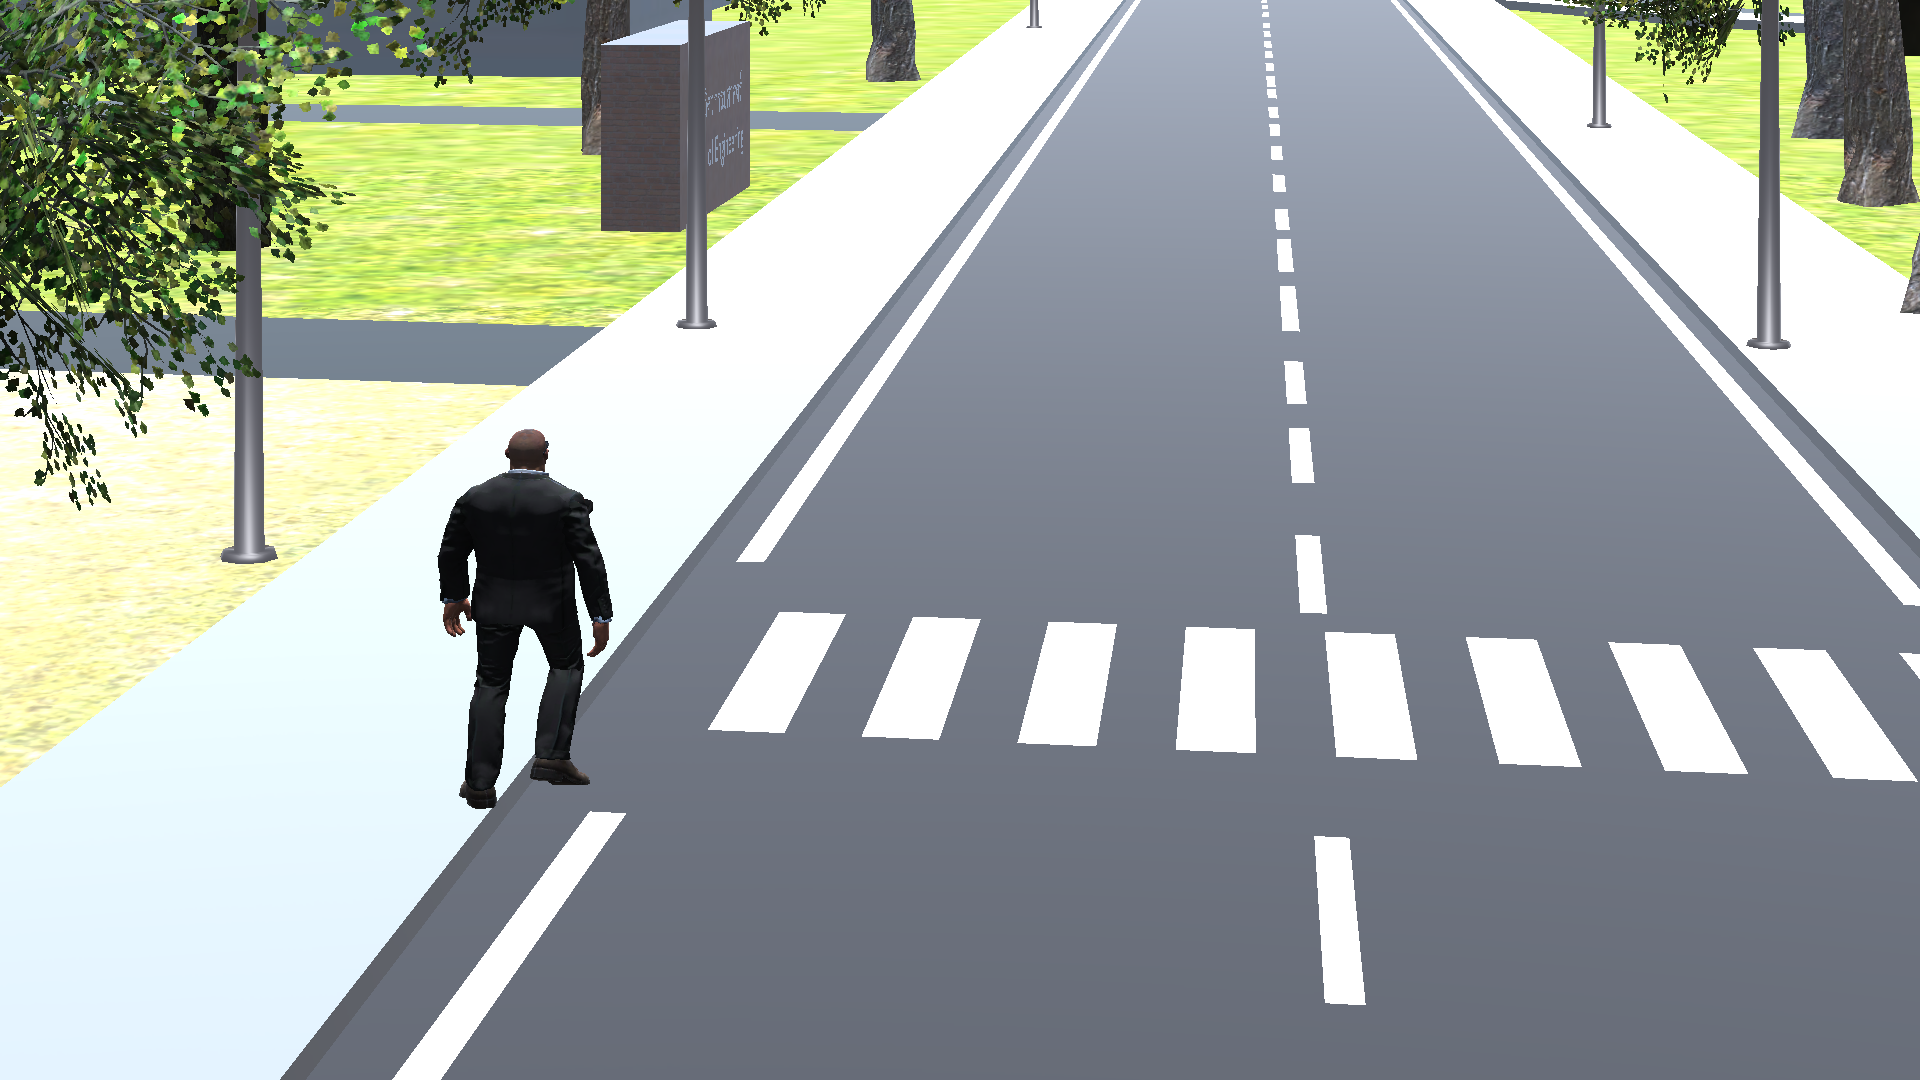pedestrian: (438, 426, 615, 825)
